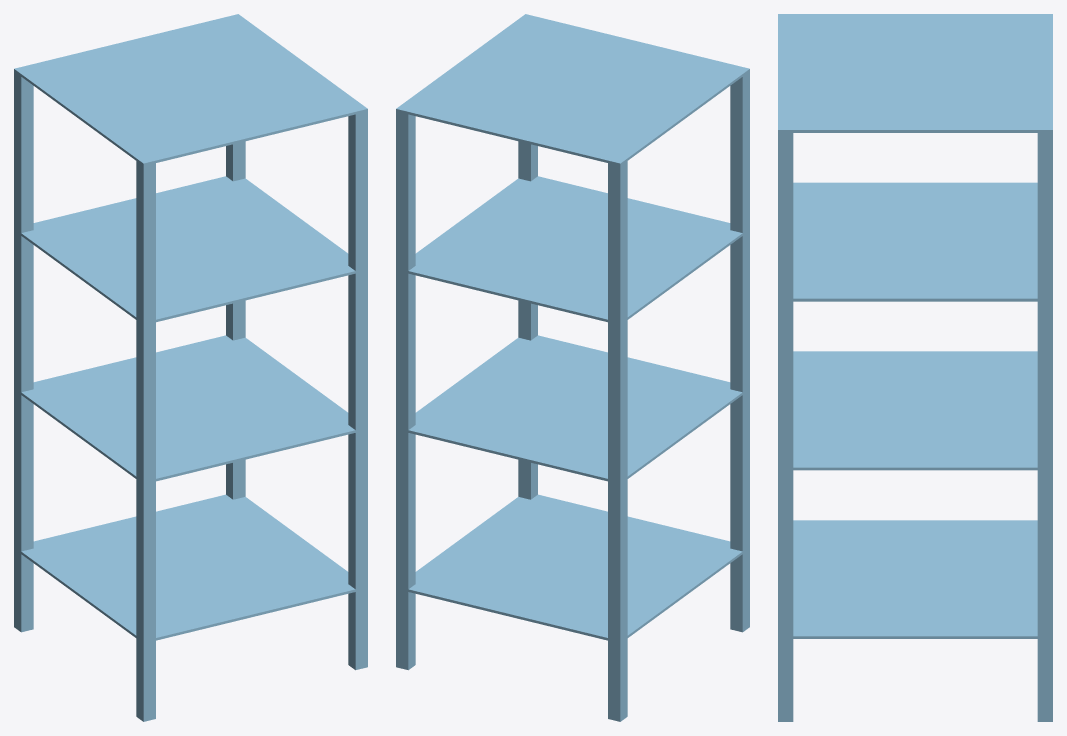
Rendered from rack_900.dae.
3 views of the same model, side by side, from view 1: azimuth 30°, elevation 25°; view 2: azimuth 150°, elevation 25°; view 3: azimuth 270°, elevation 25° (orthographic). The views are drawn at different scales.
Visible parts, largest first — view 1: ID2; view 2: ID2; view 3: ID2.
Boxes of the visible parts, x1,y1,x2,y2 form: ID2: (14,14,367,721); ID2: (396,14,749,721); ID2: (778,14,1052,721).
Size of the model in its own units: 0.9 by 0.9 by 2.14.
